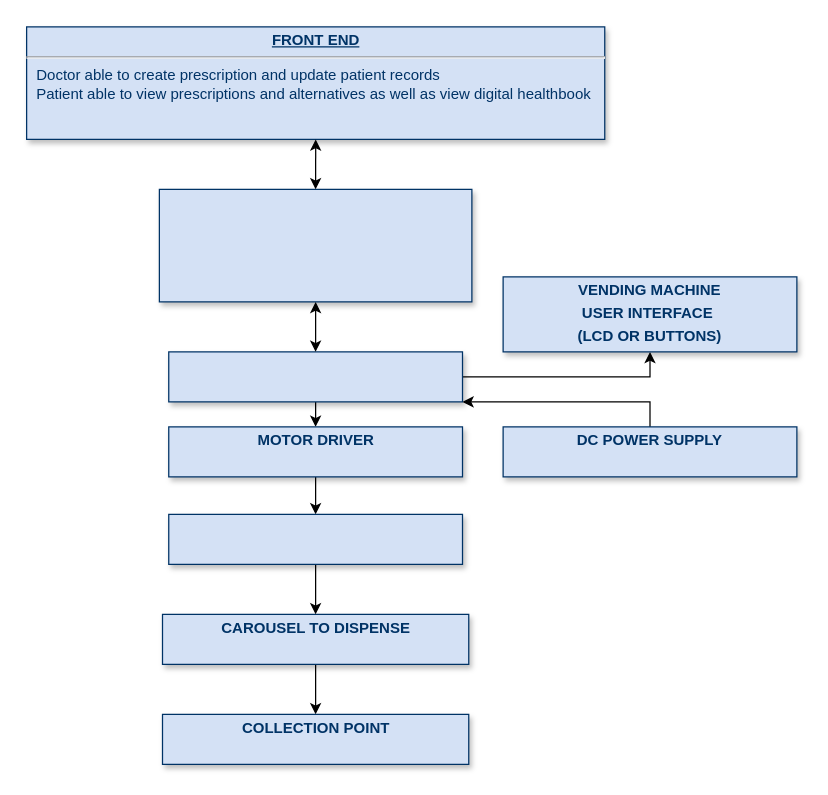
This 828x795 diagram has some shape labels left out. The centre of each missing label's shape, as x and y in pixels:
"BACKEND APIs Database Medication Alternative Suggestion AI model SMS sending" goes at (x=316, y=247).
"ESP32 MICROCONTROLLER" goes at (x=316, y=378).
"STEPPER MOTORS" goes at (x=316, y=540).
